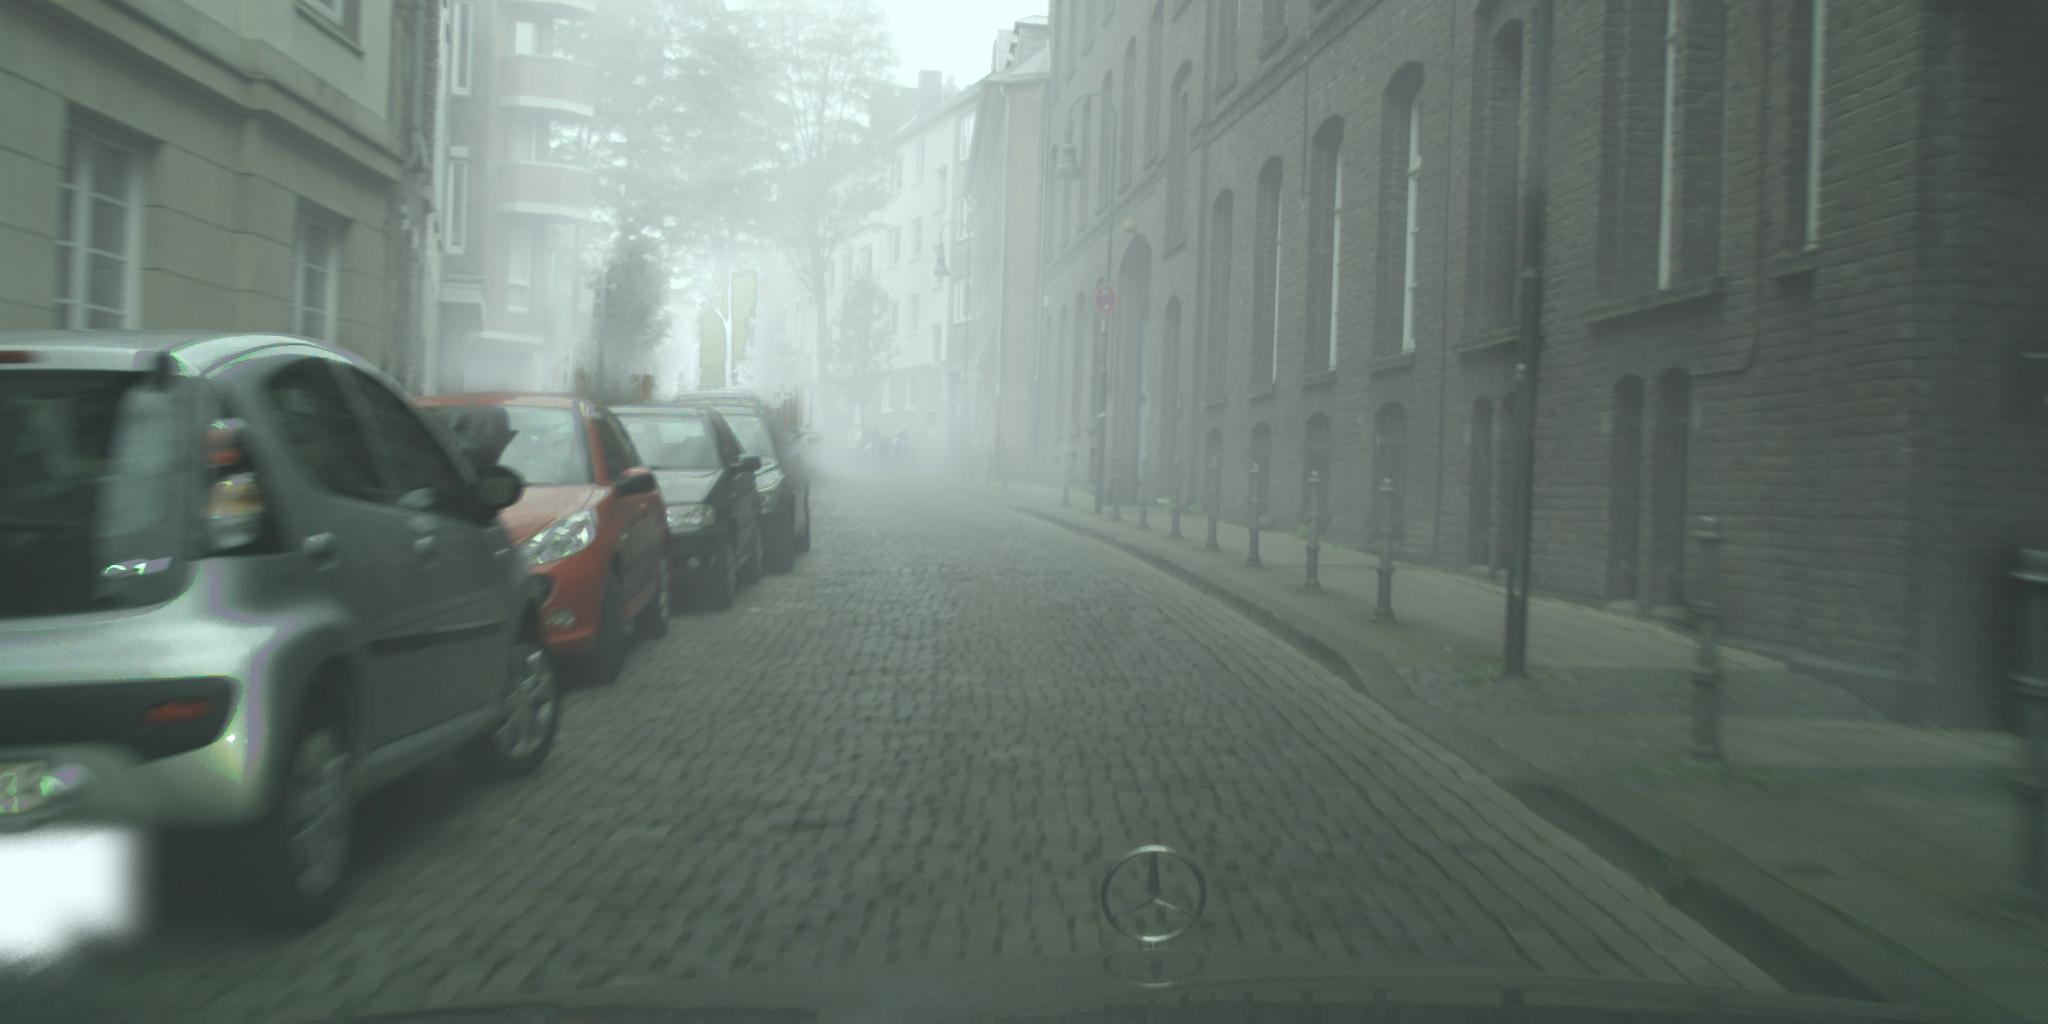car: (1, 330, 562, 930), (323, 392, 671, 680), (590, 404, 765, 609), (784, 431, 833, 460), (781, 428, 814, 448)
motorcycle: (842, 424, 900, 474), (891, 428, 918, 473)
